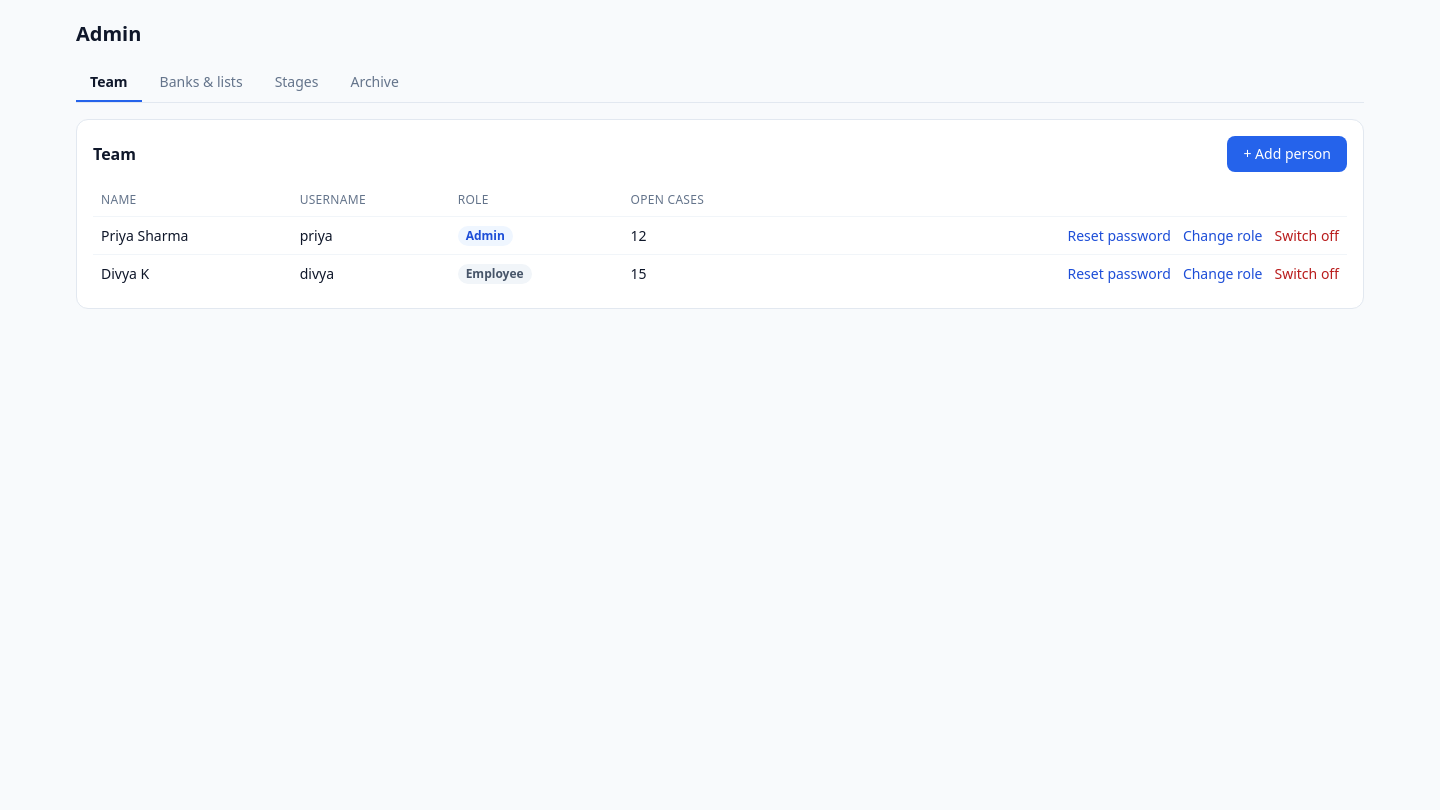
Scenario: Admin › Reset password posts the new password and confirms
The width and height of the screenshot is (1440, 810).
Expected: the text "Divya K" is shown, left=93, top=254, right=292, bottom=292
Click the button with aria-label "Reset password for Divya K" at point(1119, 274), box left=1068, top=264, right=1171, bottom=284
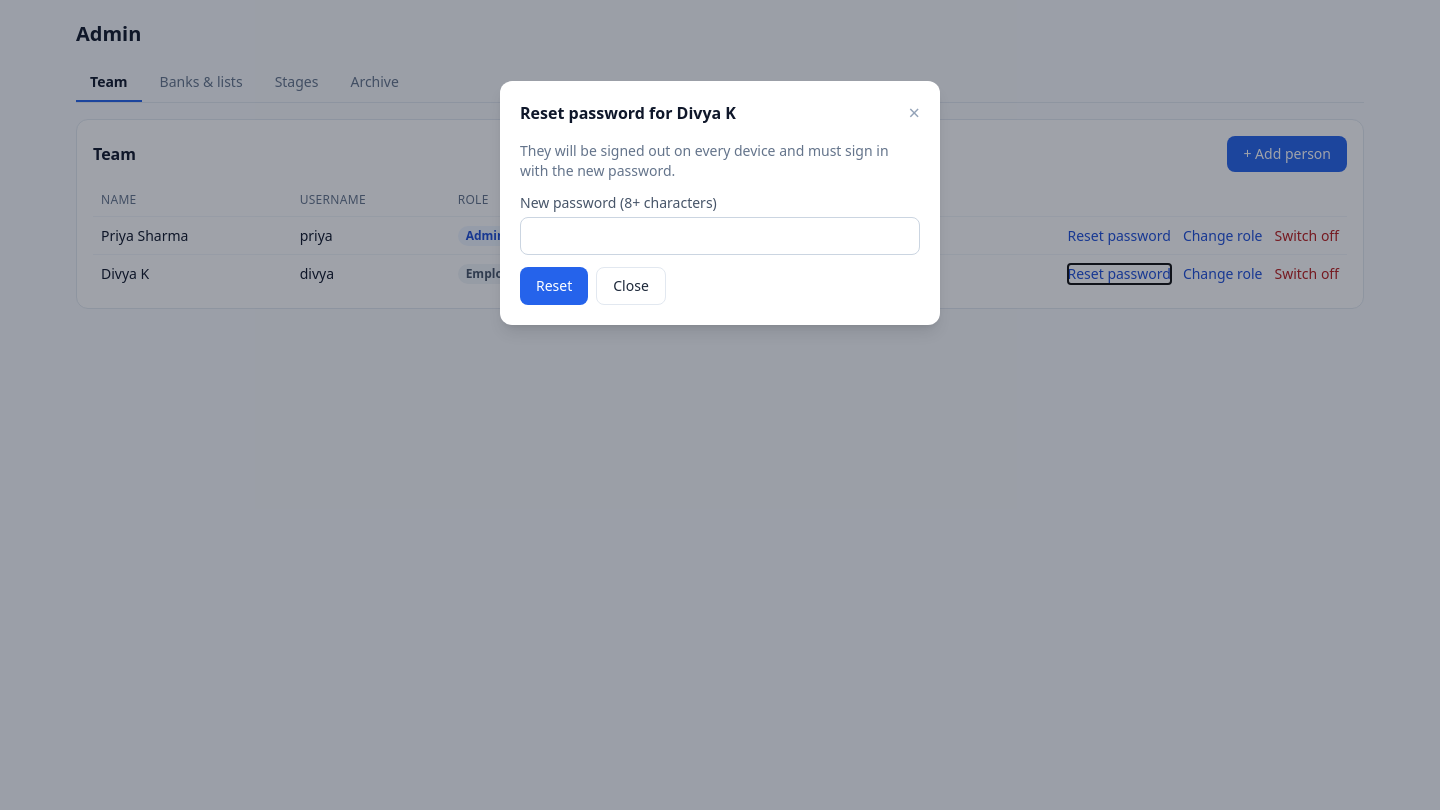
Type "temporary-pass" into the password field labelled "New password (8+ characters)" at point(720, 236), box left=520, top=217, right=920, bottom=255
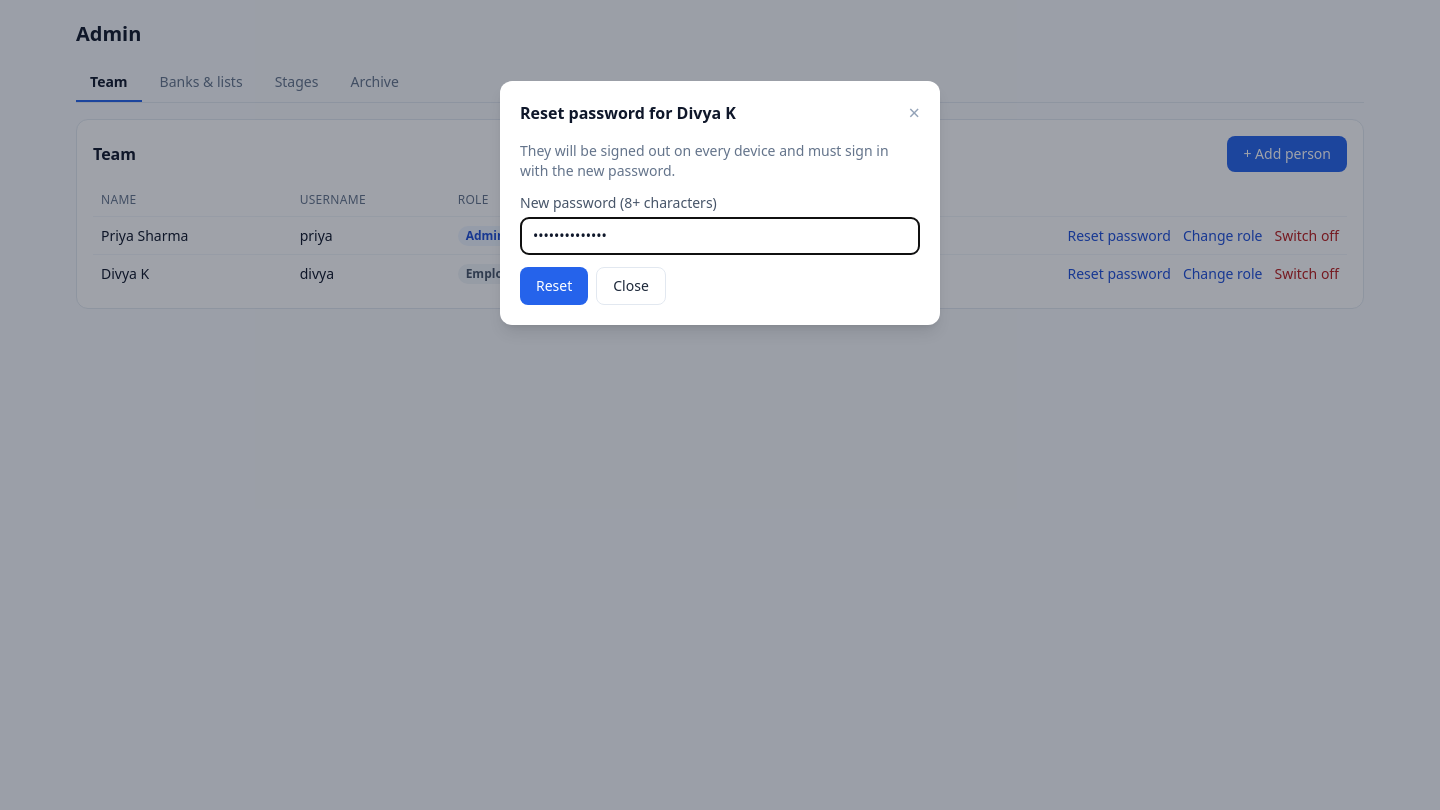
Click the button "Reset" at point(554, 286), box left=520, top=267, right=588, bottom=305
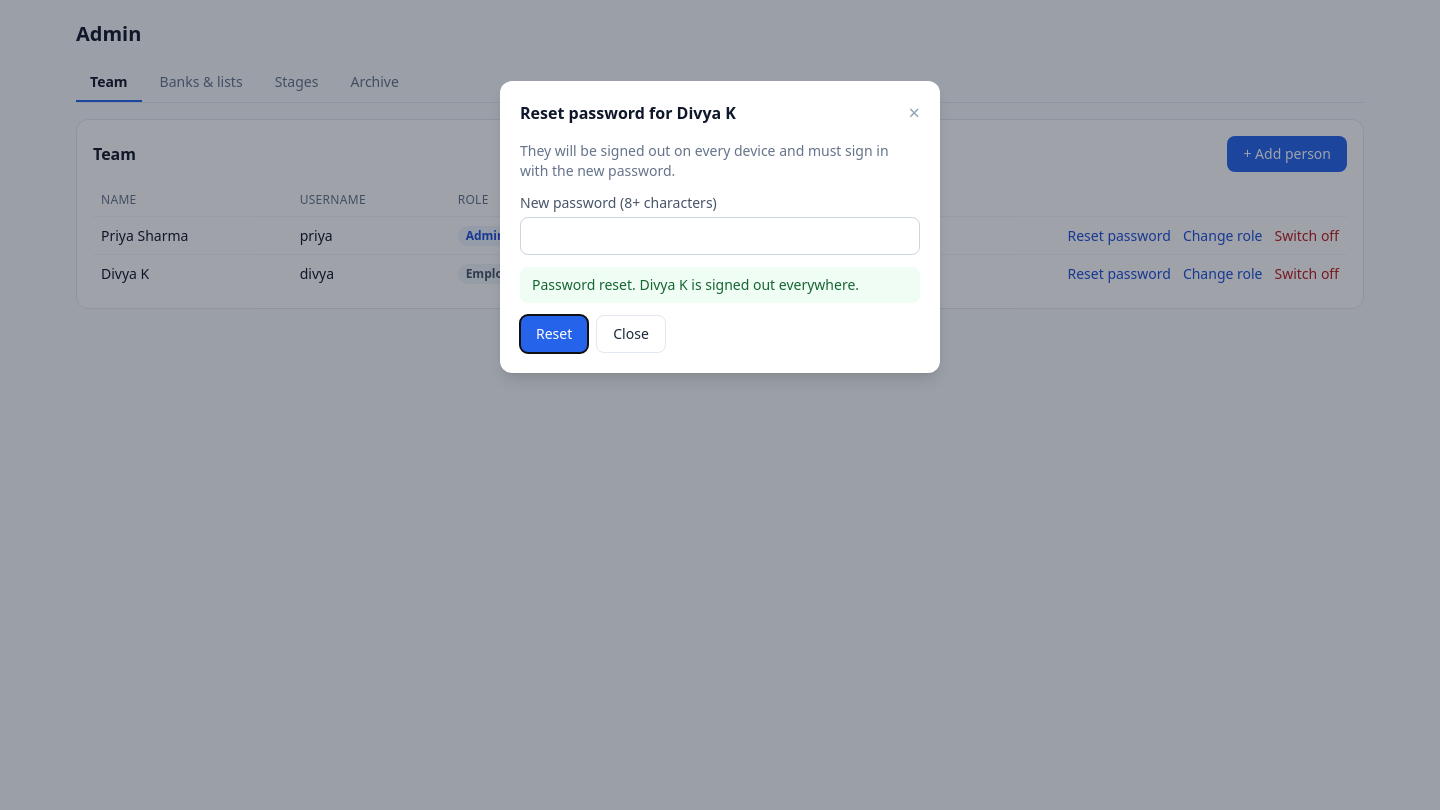
Expected: the message reads "Password reset. Divya K is signed out everywhere.", left=520, top=267, right=920, bottom=303
